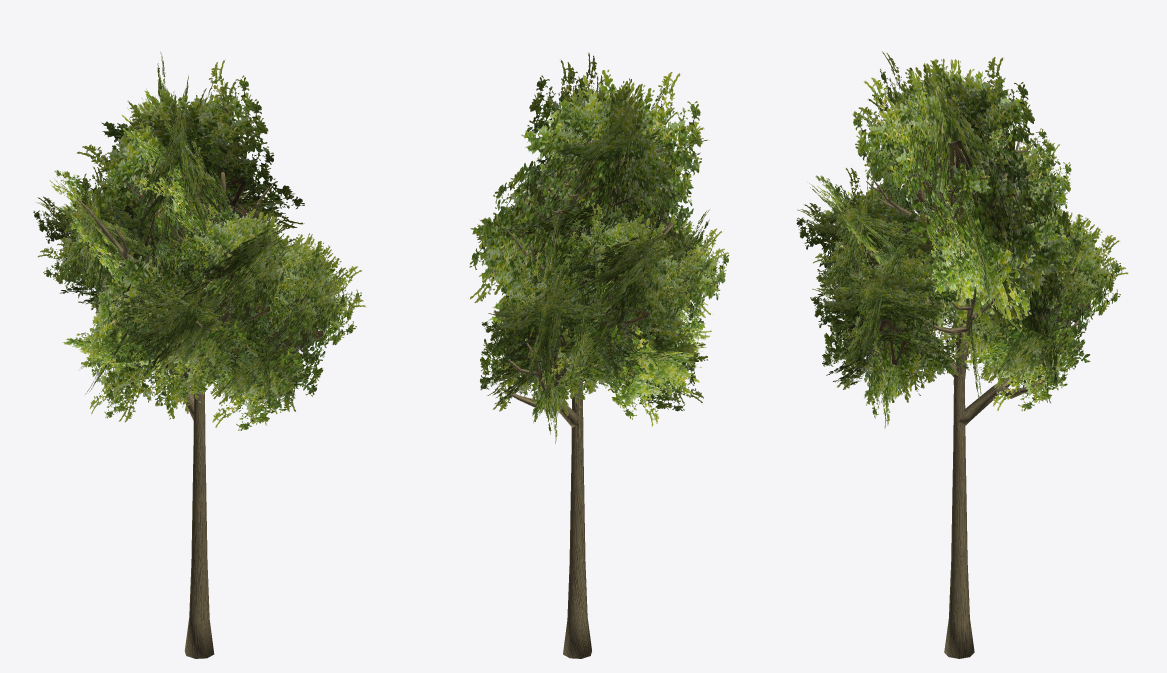
3 views of the same model, side by side, from view 1: azimuth 30°, elevation 25°; view 2: azimuth 150°, elevation 25°; view 3: azimuth 270°, elevation 25° (orthographic).
Visible parts, largest first — view 1: drzewko 2; view 2: drzewko 2; view 3: drzewko 2.
Boxes of the visible parts, x1=… form: drzewko 2: x1=33, y1=52, x2=366, y2=658; drzewko 2: x1=468, y1=53, x2=729, y2=658; drzewko 2: x1=796, y1=51, x2=1128, y2=658.
Bounding box in the file's own units: 2.52 × 5.16 × 2.81.
2 materials, 2 textured.
